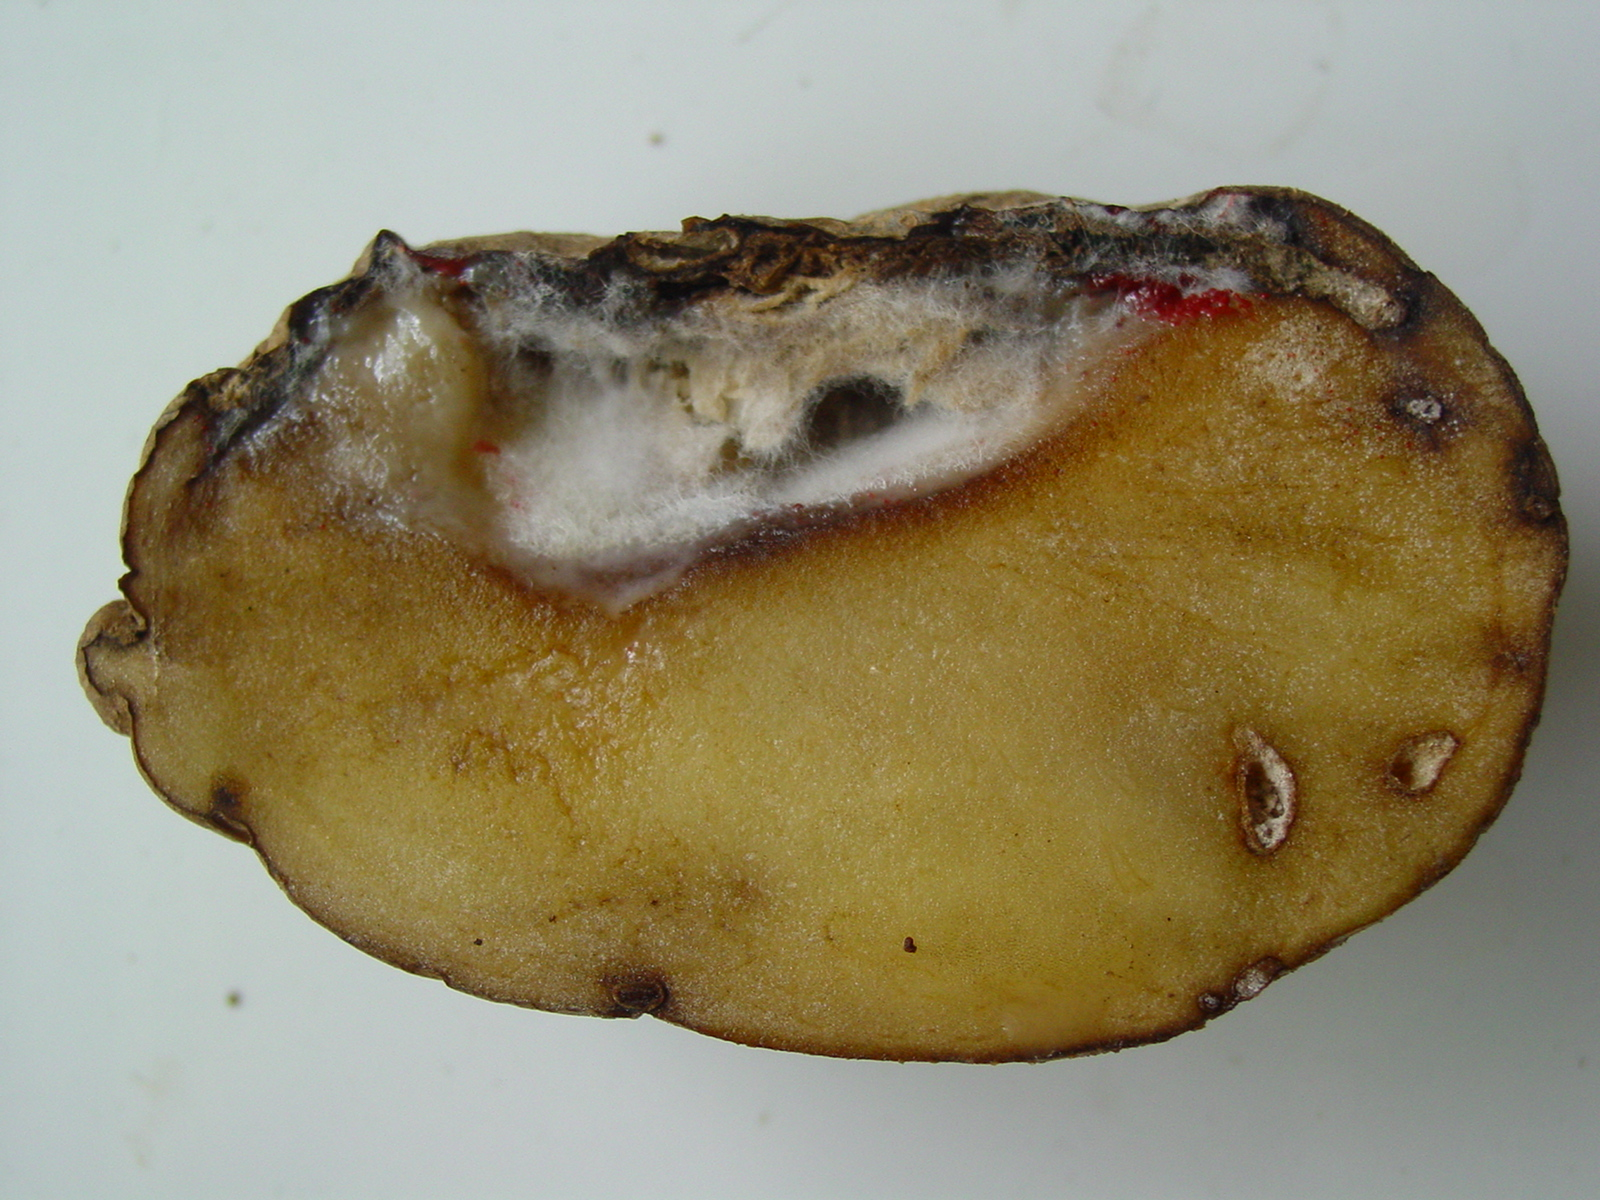Fusarium: (407, 257, 986, 495), (1105, 204, 1380, 313)
